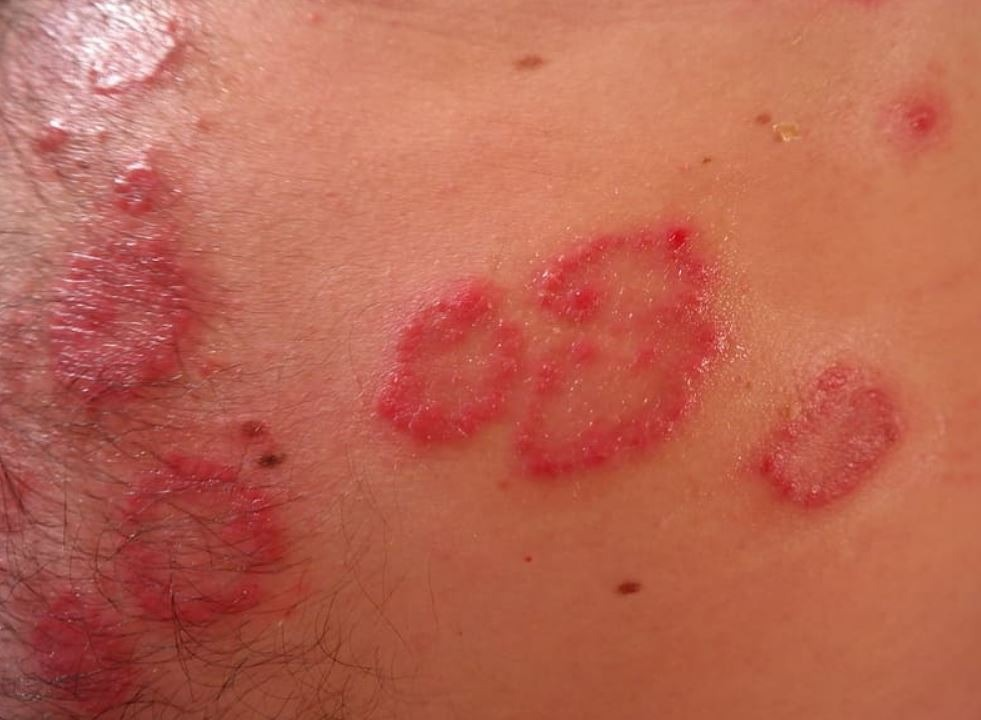Psoriasis: (517, 193, 723, 511), (16, 218, 216, 429), (102, 441, 291, 635), (343, 278, 539, 455), (753, 348, 928, 539), (11, 578, 154, 720), (64, 4, 228, 103)
